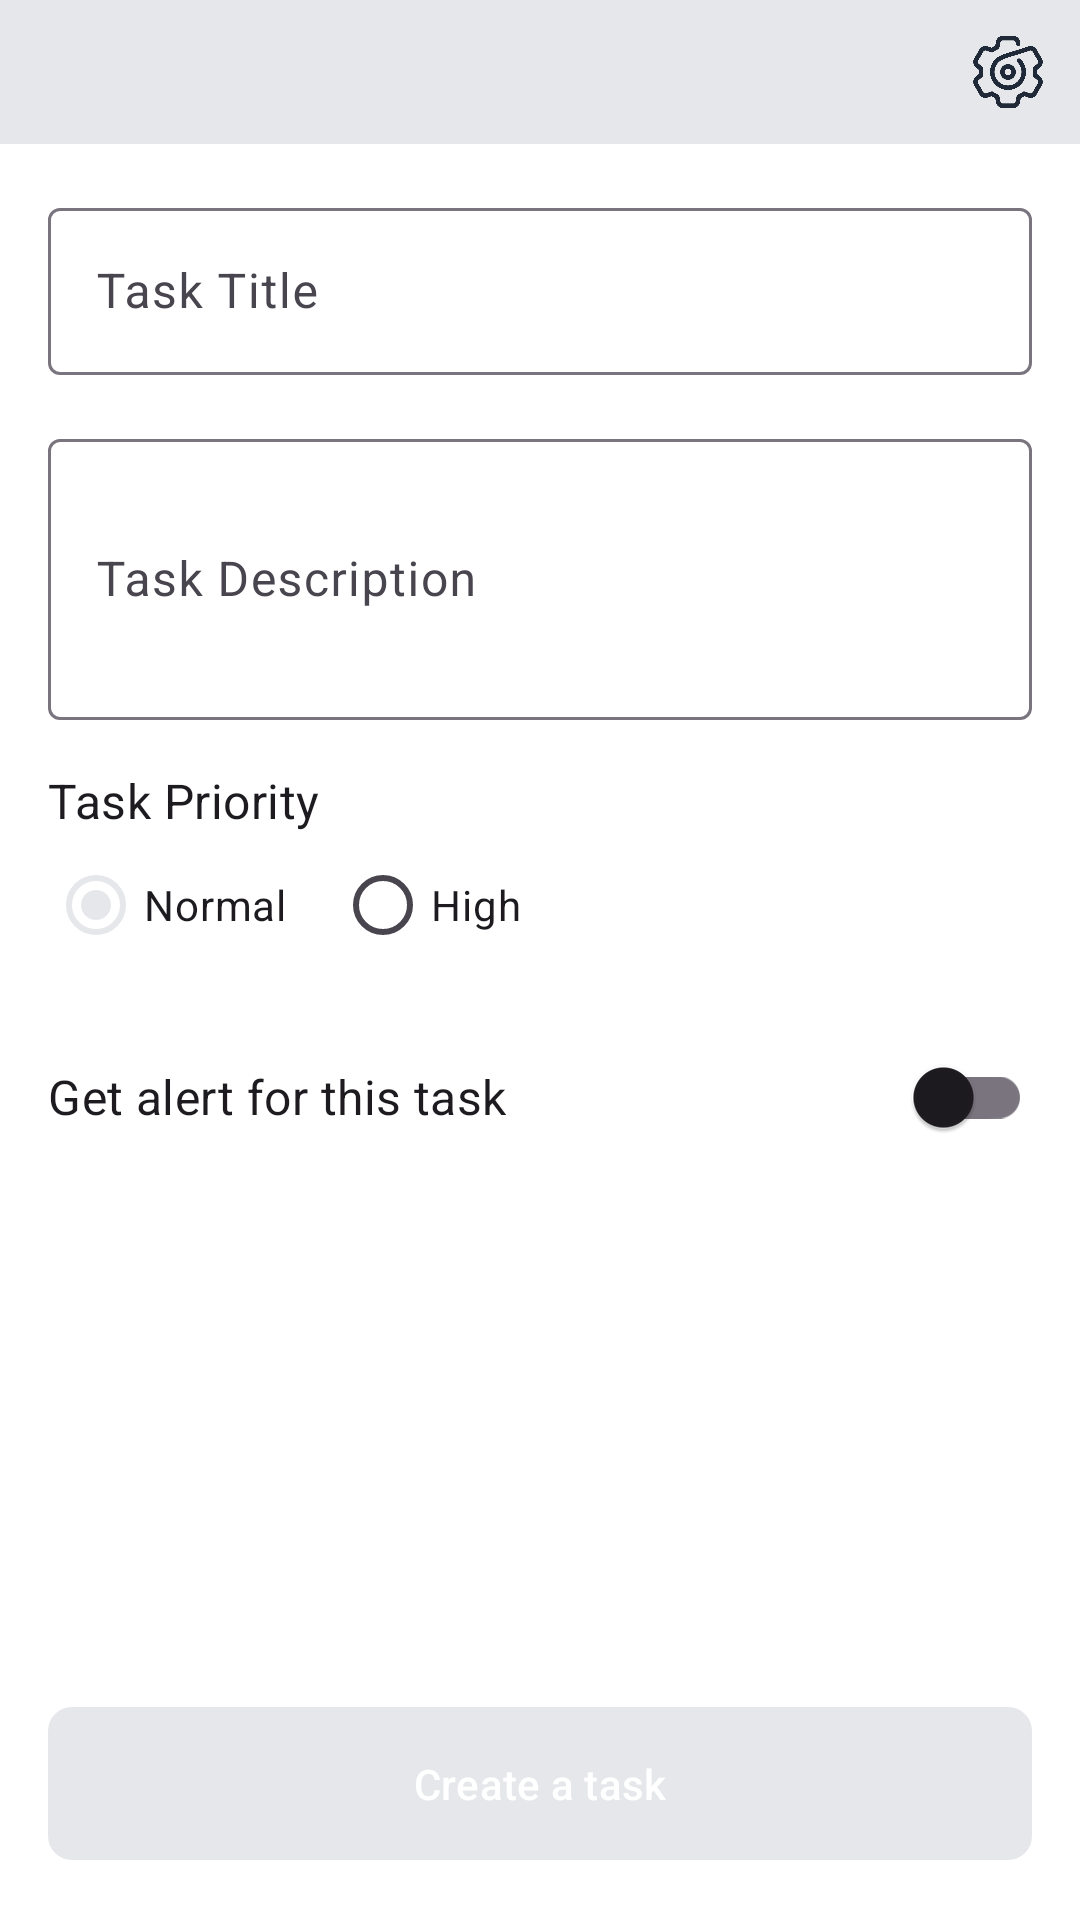

Named icons in this screenshot (1080px x 1920px) and their bounding boxes, (x1, y1, x2, y2):
setting: (973, 36, 1043, 108)
